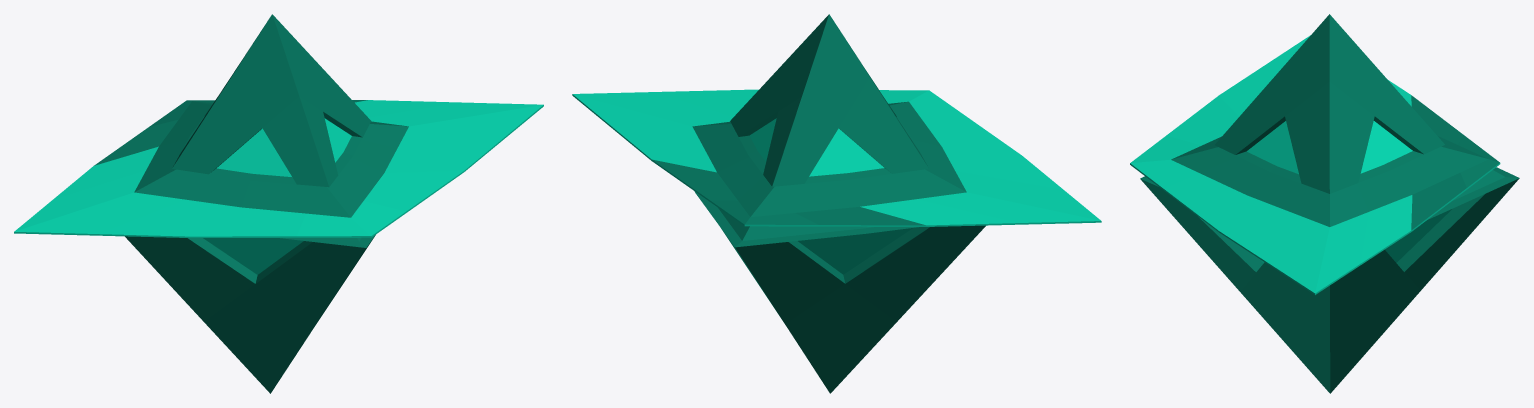
Rendered from Diamond_Char_Idle.fbx.
The picture shows the model from 3 angles, left to right: view 1: azimuth 30°, elevation 25°; view 2: azimuth 150°, elevation 25°; view 3: azimuth 270°, elevation 25°; orthographic projection.
Parts seen in each view (by area): view 1: pCube1; view 2: pCube1; view 3: pCube1.
Boxes of the visible parts, box(x1,y1,x2,y2) form: pCube1: box(14, 14, 543, 393); pCube1: box(572, 14, 1101, 393); pCube1: box(1130, 14, 1519, 393).
Size of the model in its own units: 1.61 by 1.11 by 1.03.
